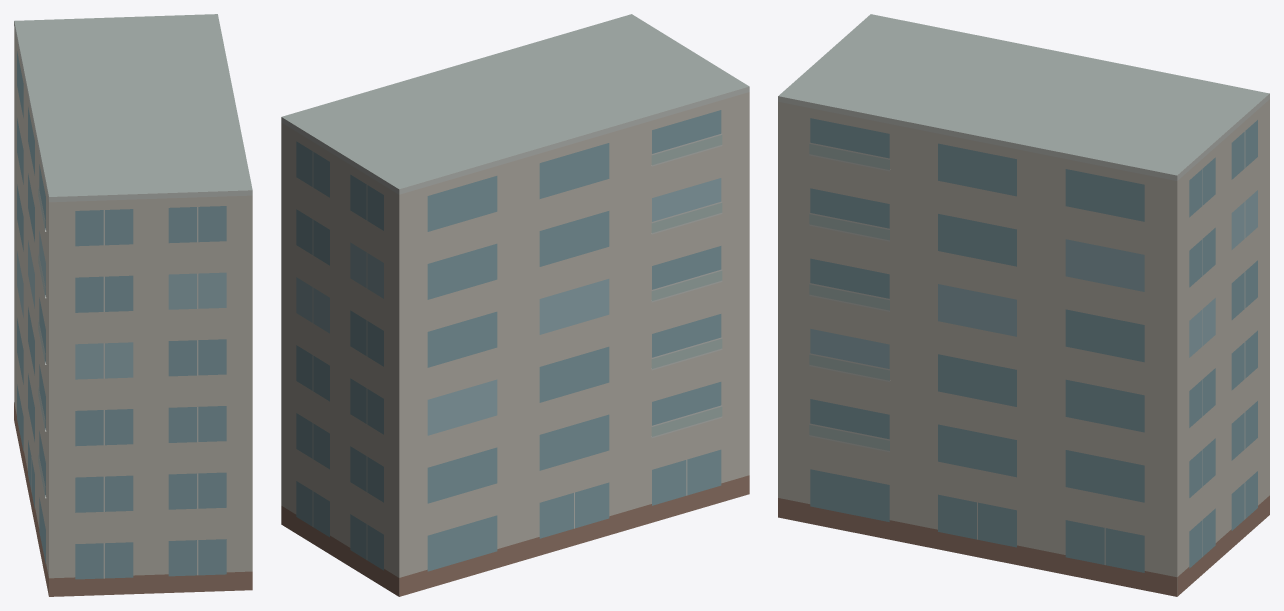
File: survey-upis-32897709.glb
The picture shows the model from 3 angles, left to right: view 1: azimuth 30°, elevation 25°; view 2: azimuth 150°, elevation 25°; view 3: azimuth 270°, elevation 25°; orthographic projection. The views are drawn at different scales.
Visible parts, largest first — view 1: survey-upis-32897709.tmp; view 2: survey-upis-32897709.tmp; view 3: survey-upis-32897709.tmp.
Part boxes in pixels (x1,y1,x2,y2): survey-upis-32897709.tmp: [14, 14, 252, 596]; survey-upis-32897709.tmp: [281, 14, 749, 596]; survey-upis-32897709.tmp: [778, 14, 1269, 596].
Bounding box in the file's own units: 15.06 × 18.3 × 19.37.
